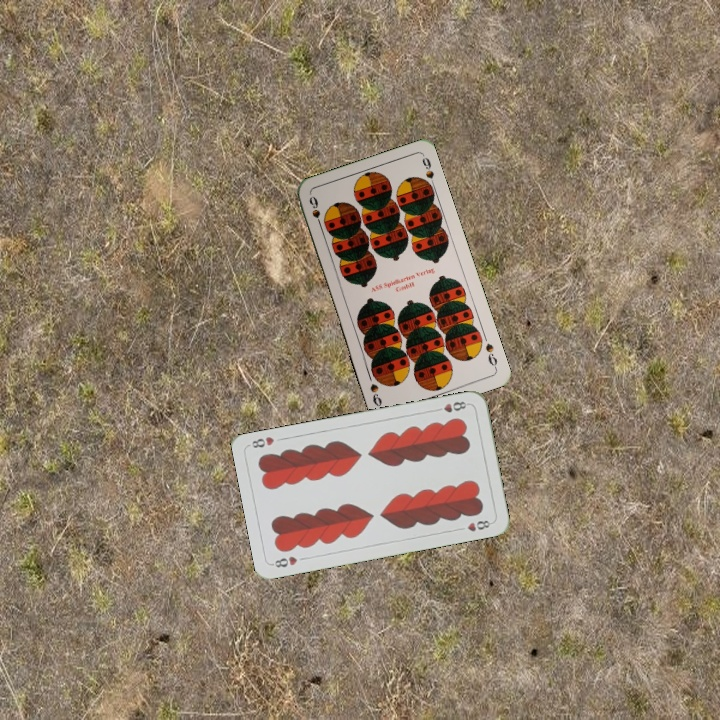H8: (431, 397, 471, 415), (269, 552, 300, 570)
S9: (305, 192, 325, 232), (481, 339, 500, 371)
